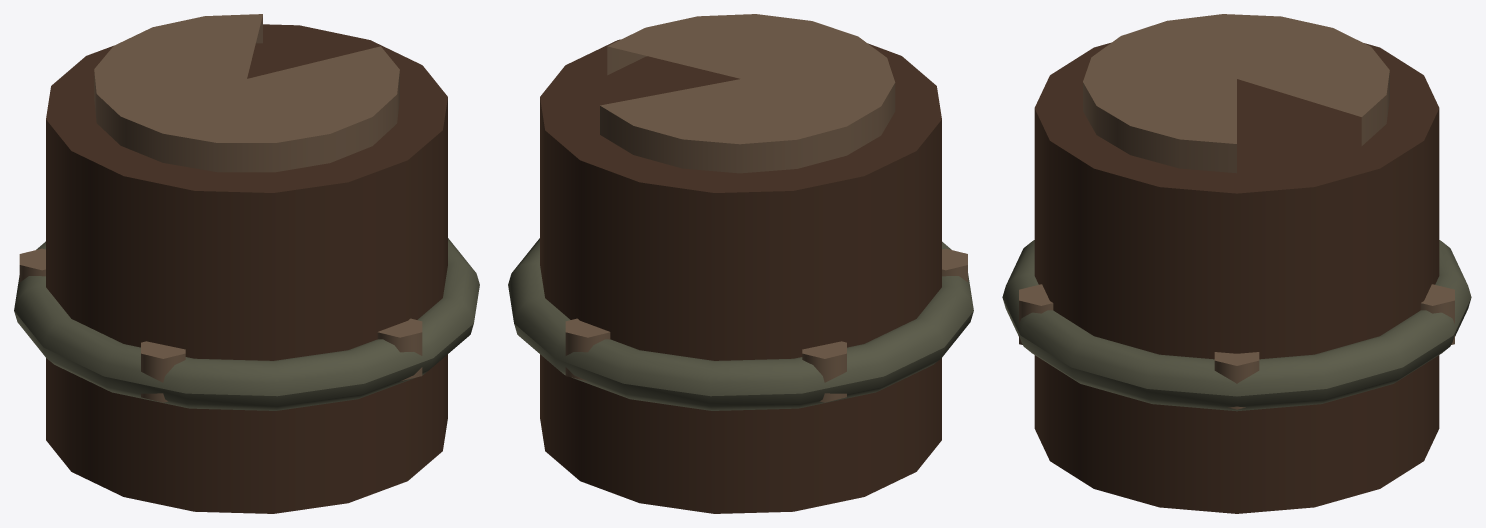
Rendered from traveler_coat.obj.
3 renders of one model, left to right at view 1: azimuth 30°, elevation 25°; view 2: azimuth 150°, elevation 25°; view 3: azimuth 270°, elevation 25°, orthographic.
Parts seen in each view (by area): view 1: traveler_coat; view 2: traveler_coat; view 3: traveler_coat.
Boxes of the visible parts, x1,y1,x2,y2 form: traveler_coat: (14,14,479,513); traveler_coat: (508,14,973,513); traveler_coat: (1002,14,1471,513).
Bounding box in the file's own units: 1.46 × 1.2 × 1.46.
